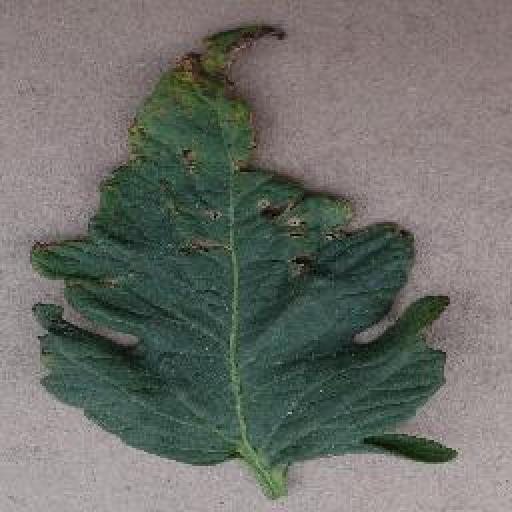Bacterial Spot: (27, 20, 456, 476)
